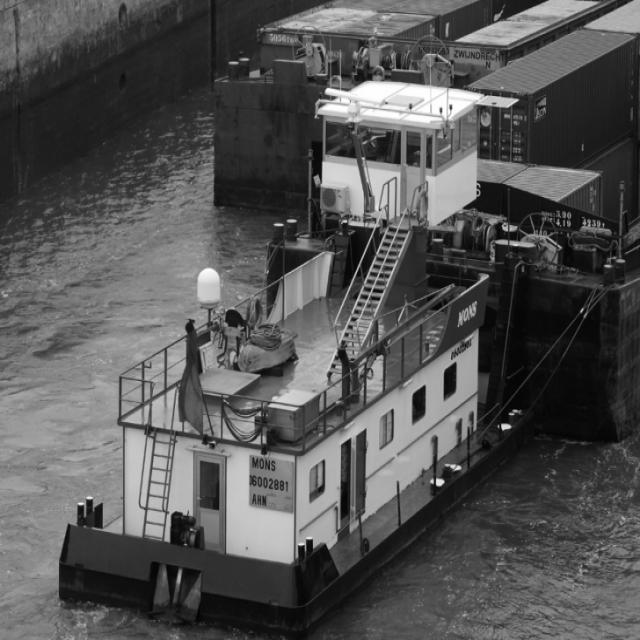tugboat: (53, 69, 538, 640)
